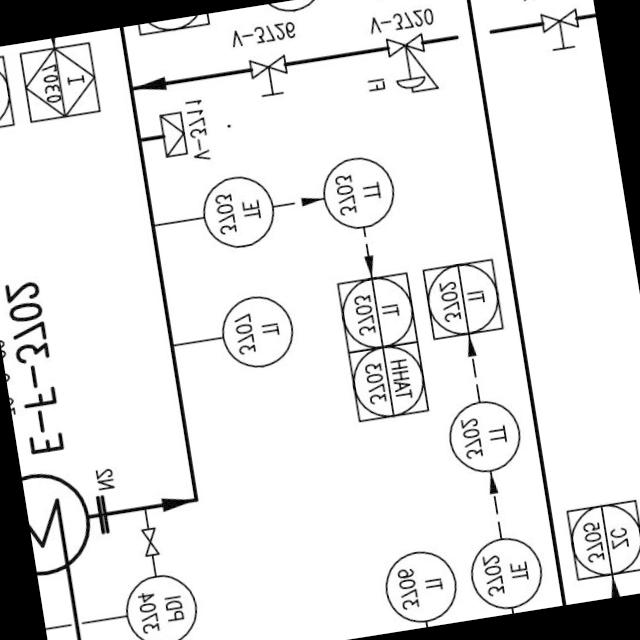GV: (135, 521, 164, 565)
HV: (535, 0, 590, 61), (242, 48, 298, 106)
PCV: (381, 24, 450, 106)
